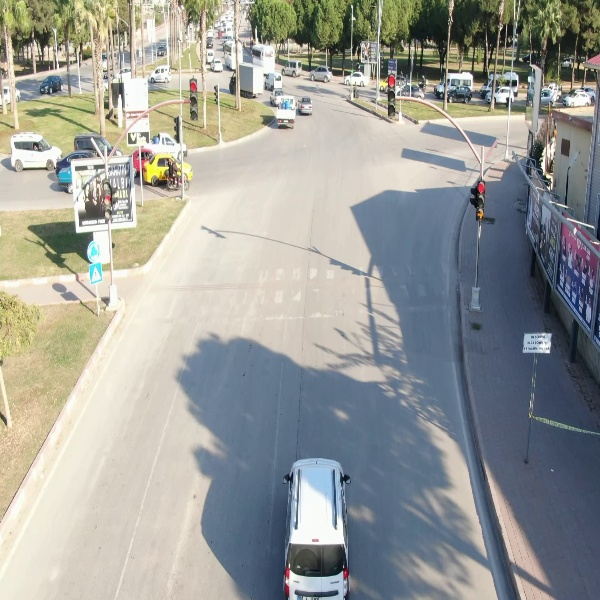car: (280, 455, 352, 599), (9, 132, 65, 173), (147, 62, 173, 87), (485, 86, 515, 106), (562, 88, 591, 108), (39, 73, 65, 94), (308, 66, 334, 82), (343, 70, 365, 88), (281, 59, 301, 77), (297, 95, 314, 116)
